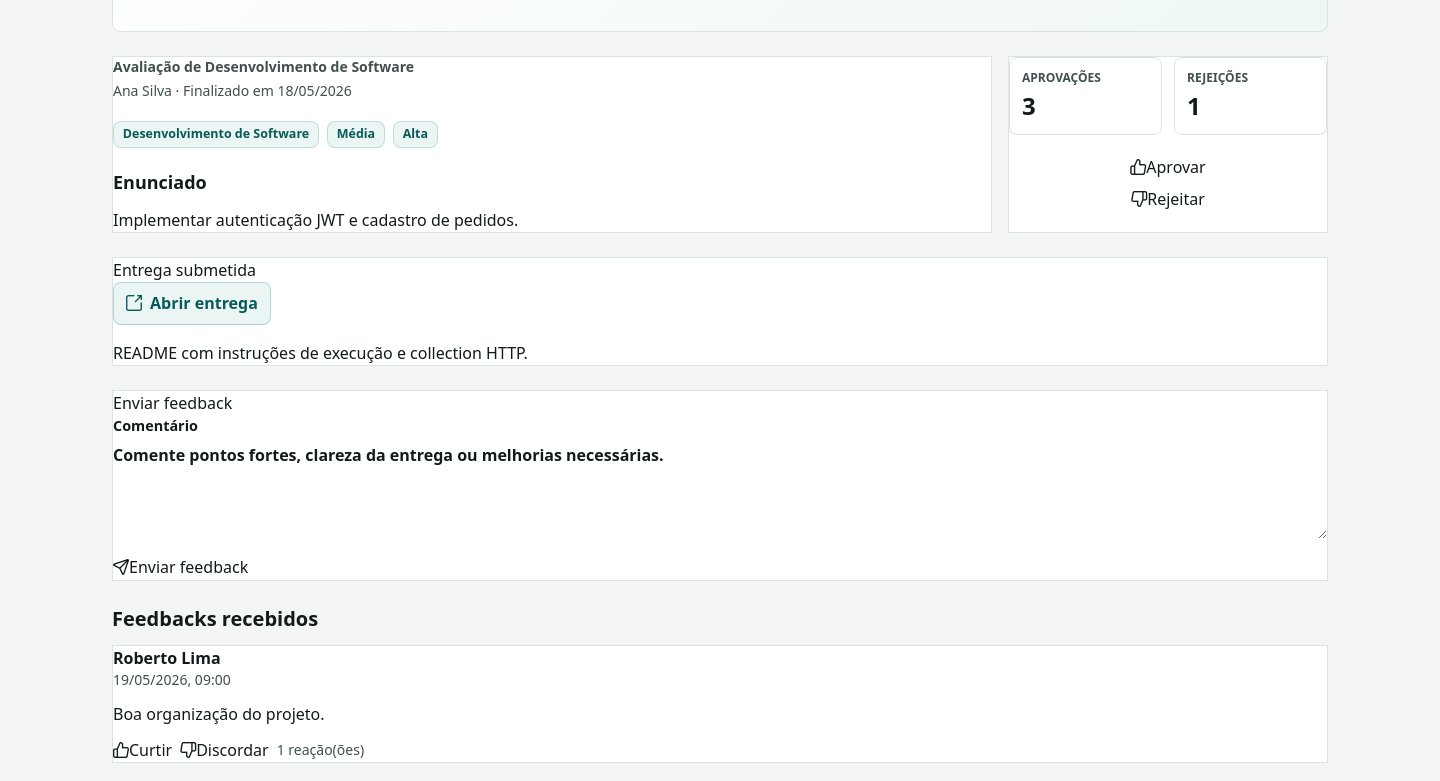
Test case: MiniProjectPublicDetailView › validates empty feedback locally
(page scrolled)
Click the button with test id "send-mini-project-feedback" at (181, 567), box [113,555,248,579]
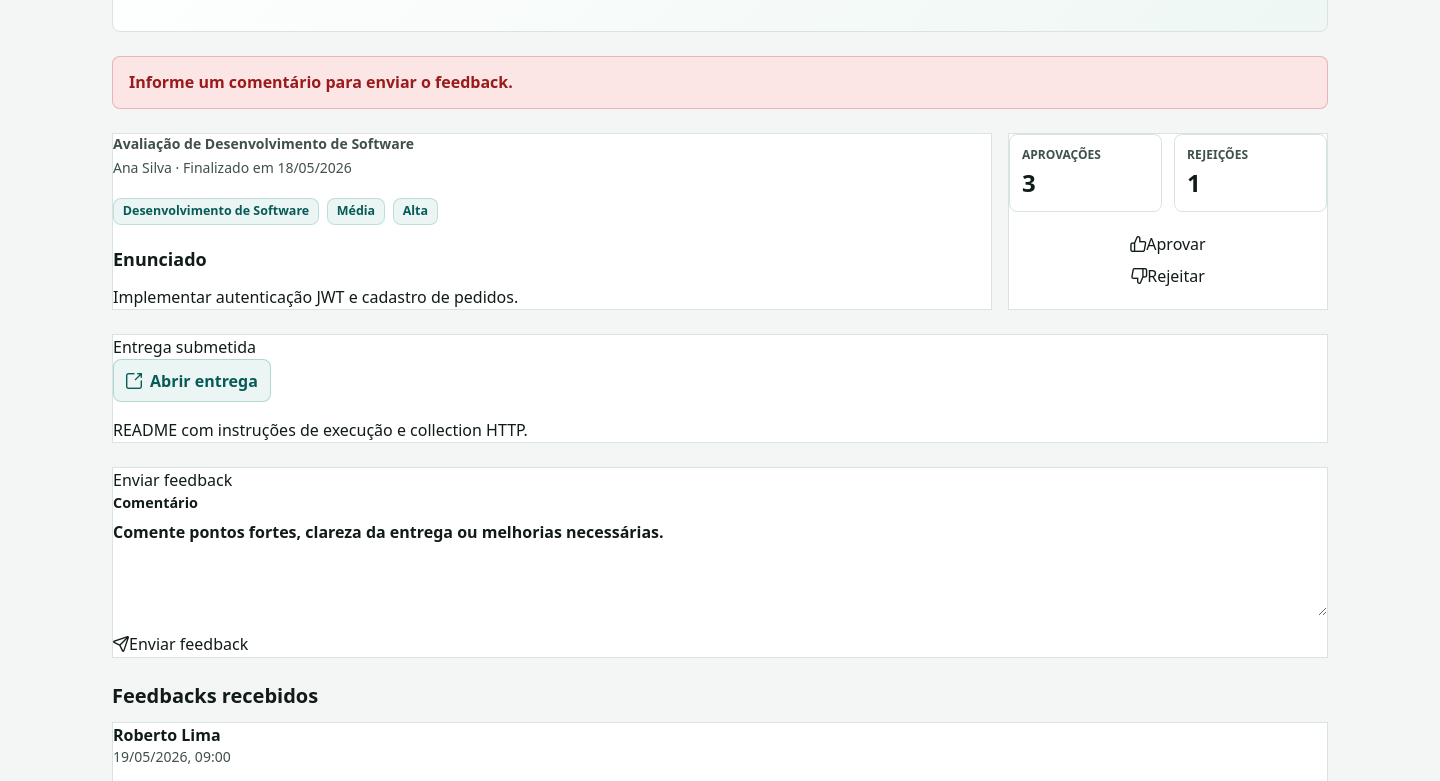
Expected: the text "Informe um comentário para enviar o feedback." is shown, [112,56,1328,109]
